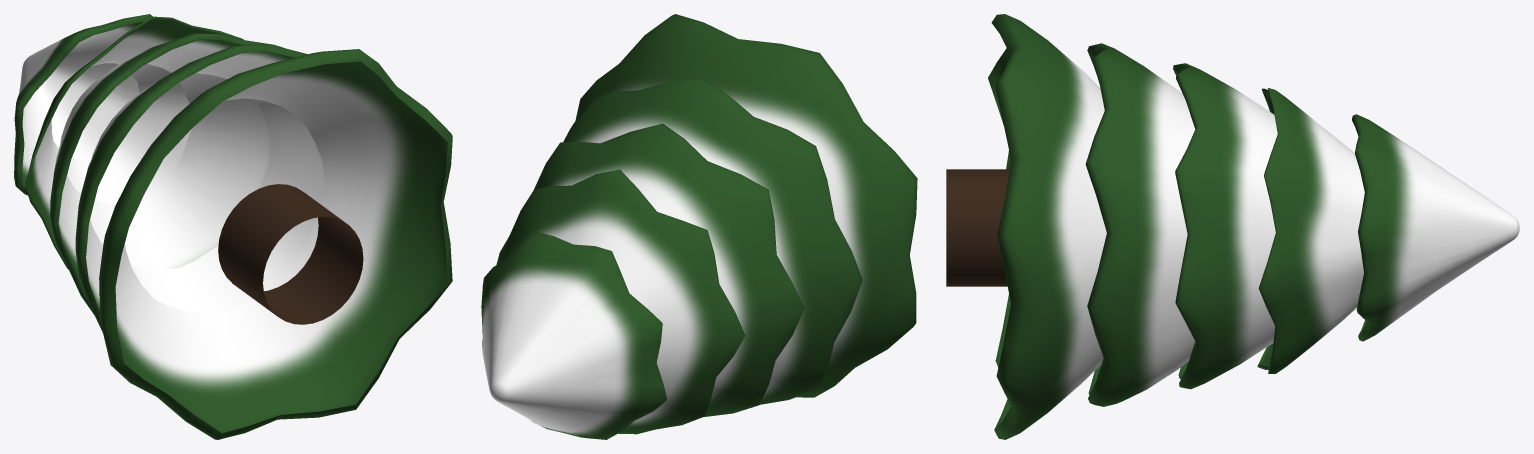
The model's file is treeOnly.fbx.
The picture shows the model from 3 angles, left to right: view 1: azimuth 30°, elevation 25°; view 2: azimuth 150°, elevation 25°; view 3: azimuth 270°, elevation 25°; orthographic projection. The views are drawn at different scales.
Parts seen in each view (by area): view 1: tree; view 2: tree; view 3: tree.
Part boxes in pixels (box(x1,y1,x2,y2)): tree: box(14, 14, 452, 439); tree: box(481, 14, 917, 439); tree: box(946, 14, 1519, 439).
Bounding box in the file's own units: 244 × 244 × 345.
Materials: 1 (1 with a texture image).
